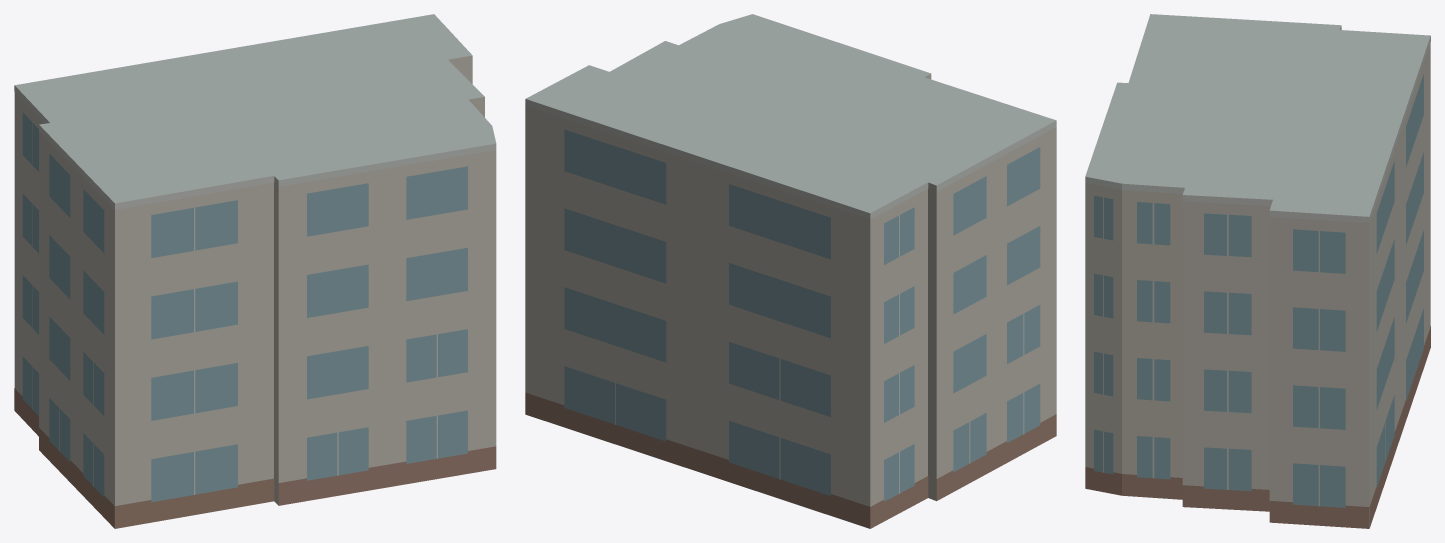
File: survey-upis-32806226.glb
3 views of the same model, side by side, from view 1: azimuth 30°, elevation 25°; view 2: azimuth 150°, elevation 25°; view 3: azimuth 270°, elevation 25° (orthographic). The views are drawn at different scales.
Visible parts, largest first — view 1: survey-upis-32806226.tmp; view 2: survey-upis-32806226.tmp; view 3: survey-upis-32806226.tmp.
Part boxes in pixels (left/top/right/bottom): survey-upis-32806226.tmp: left=14, top=14, right=496, bottom=528; survey-upis-32806226.tmp: left=525, top=14, right=1056, bottom=528; survey-upis-32806226.tmp: left=1085, top=14, right=1430, bottom=528.
Size of the model in its own units: 16.88 by 12.1 by 12.16.
